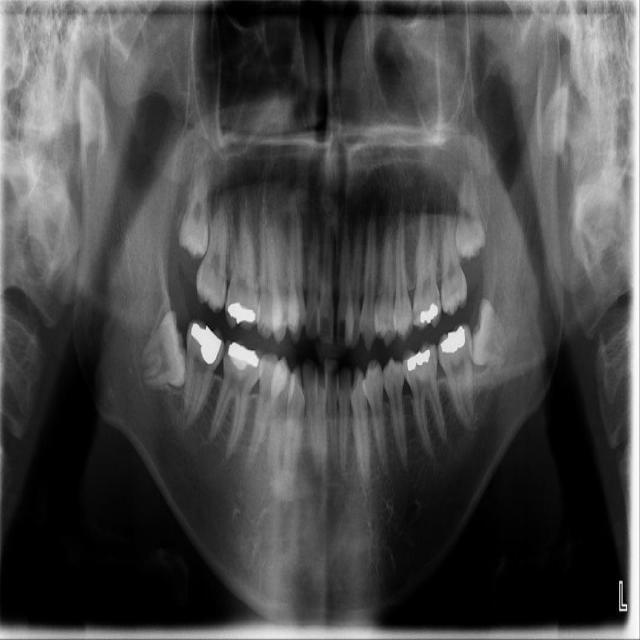3M ESPE Implant: (178, 139, 209, 259)
52: (172, 315, 235, 378), (210, 336, 270, 394), (395, 338, 448, 391), (222, 280, 263, 332), (408, 283, 445, 332)
73: (593, 594, 602, 600)
BioHorizons Implant: (437, 193, 468, 318)
BioLife Implant: (449, 159, 487, 262)
Biomet 3i Implant: (462, 297, 524, 374)
Blue Sky Bio Implant: (436, 323, 476, 430)
Caries: (195, 207, 230, 312)
Implant: (181, 317, 226, 427)
Keystone Dental Implant: (141, 310, 189, 388)
